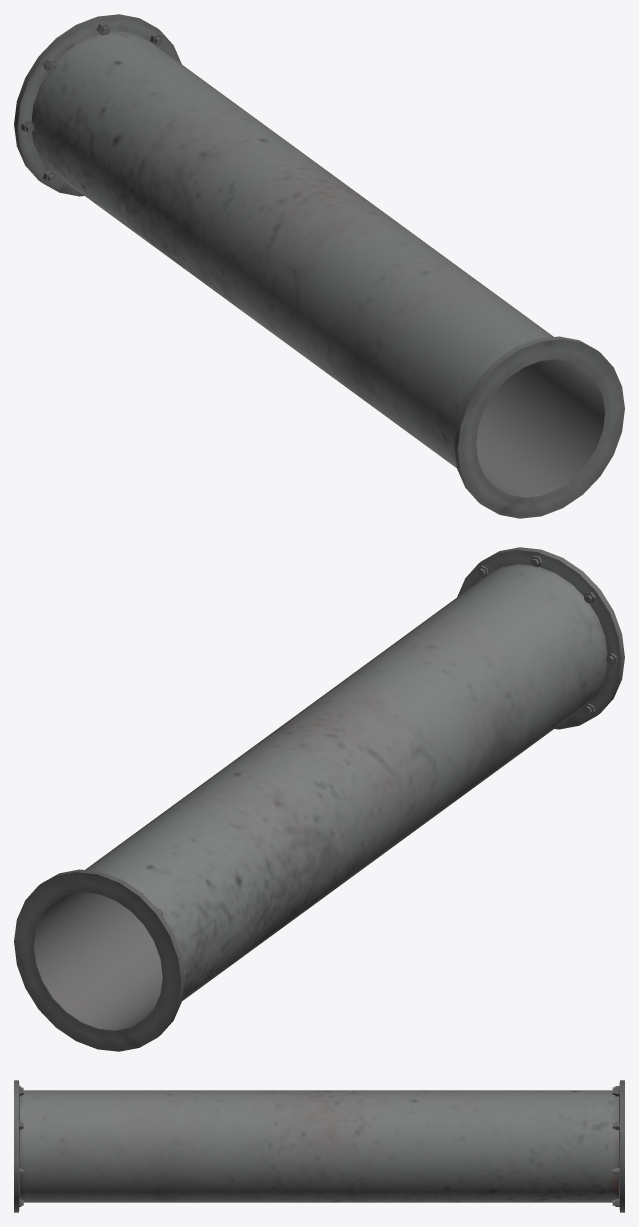
File: CanoReto.glb
The picture shows the model from 3 angles, top to bottom: view 1: azimuth 30°, elevation 25°; view 2: azimuth 150°, elevation 25°; view 3: azimuth 270°, elevation 25°; orthographic projection. The views are drawn at different scales.
Visible parts, largest first — view 1: Pipe_Straight6; view 2: Pipe_Straight6; view 3: Pipe_Straight6.
Part boxes in pixels (x1,y1,x2,y2): Pipe_Straight6: (14, 14, 624, 518); Pipe_Straight6: (14, 547, 624, 1051); Pipe_Straight6: (14, 1080, 624, 1212).
Size of the model in its own units: 2.39 by 2.39 by 10.98.
Materials: 1 (1 with a texture image).
